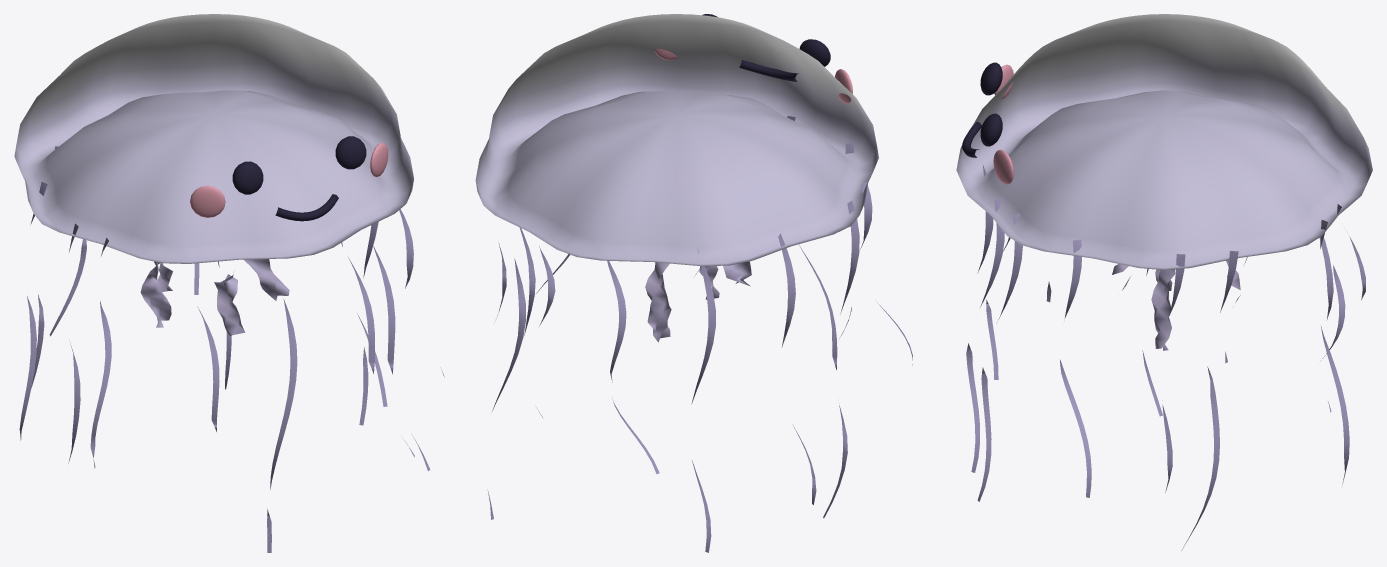
The model's file is jelly-b.glb.
3 renders of one model, left to right at view 1: azimuth 30°, elevation 25°; view 2: azimuth 150°, elevation 25°; view 3: azimuth 270°, elevation 25°, orthographic.
Parts seen in each view (by area): view 1: Jelly_b; view 2: Jelly_b; view 3: Jelly_b.
Boxes of the visible parts, x1,y1,x2,y2 form: Jelly_b: (14, 14, 444, 552); Jelly_b: (475, 14, 912, 552); Jelly_b: (956, 14, 1372, 550).
Size of the model in its own units: 2.18 by 2.44 by 2.13.
